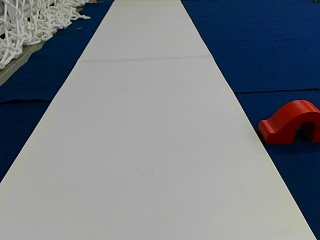bridge: (259, 101, 317, 141)
